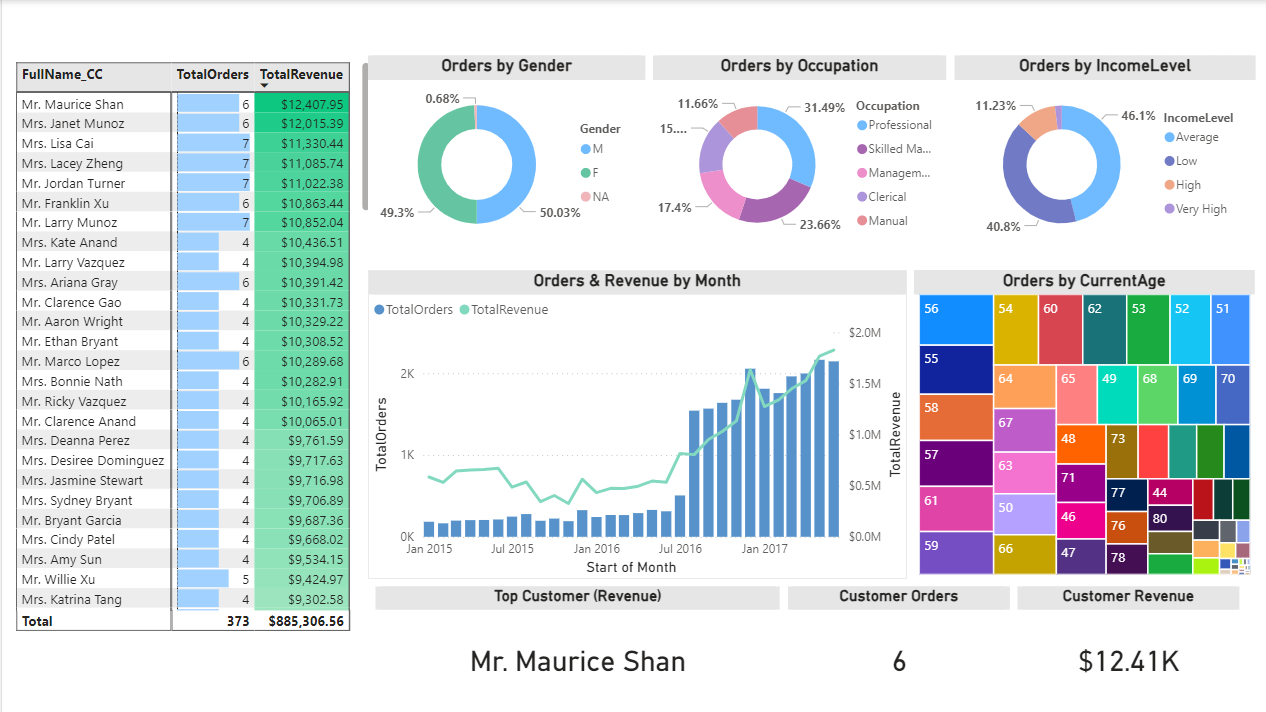

The dashboard page shown, as its layout file describes it:
{"tool":"powerbi","page":{"name":"Customer Detail","canvas":[1280,720],"ordinal":1},"visuals":[{"type":"pivotTable","title":"Top 100 Customers","fields":{"Values":["AW_Sales.TotalOrders","AW_Sales.TotalRevenue"],"Rows":["AW_Customer_Lookup.FullName_CC"]},"box":[9.6,57.1,368,584.5],"z":0},{"type":"donutChart","title":"Orders by Gender","fields":{"Y":["AW_Sales.TotalOrders"],"Category":["AW_Customer_Lookup.Gender"]},"box":[368.9,56.4,280,200],"z":1000},{"type":"donutChart","title":"Orders by Occupation","fields":{"Y":["AW_Sales.TotalOrders"],"Category":["AW_Customer_Lookup.Occupation"]},"box":[656.9,56.4,296,200],"z":2000},{"type":"donutChart","title":"Orders by IncomeLevel","fields":{"Y":["AW_Sales.TotalOrders"],"Category":["AW_Customer_Lookup.IncomeLevel"]},"box":[960.9,56.4,304,200],"z":3000},{"type":"lineClusteredColumnComboChart","title":"Orders & Revenue by Month","fields":{"Y":["AW_Sales.TotalOrders"],"Y2":["AW_Sales.TotalRevenue"],"Category":["AW_Calendar_Lookup.Start of Month"]},"box":[368.9,272.4,544,312],"z":4000},{"type":"treemap","title":"Orders by CurrentAge","fields":{"Values":["AW_Sales.TotalOrders"],"Group":["AW_Customer_Lookup.CurrentAge"]},"box":[920.9,272.4,344,312],"z":6000},{"type":"card","title":"Top Customer (Revenue)","fields":{"Values":["AW_Customer_Lookup.FullName_CC"]},"box":[376.9,592.4,408,128],"z":7000},{"type":"card","title":"Customer Orders","fields":{"Values":["AW_Sales.TotalOrders"]},"box":[792.9,592.4,224,128],"z":8000},{"type":"card","title":"Customer Revenue","fields":{"Values":["AW_Sales.TotalRevenue"]},"box":[1024.9,592.4,224,128],"z":9000}]}

Visuals, with their boxes in screenshot pixels (x1, y1, x2, y2), scaled from the page's 1280x720 canvas onto the 1266x712 screenshot:
"Top 100 Customers" pivotTable: bbox=(9, 56, 373, 634)
"Orders by Gender" donutChart: bbox=(365, 56, 642, 254)
"Orders by Occupation" donutChart: bbox=(650, 56, 942, 254)
"Orders by IncomeLevel" donutChart: bbox=(950, 56, 1251, 254)
"Orders & Revenue by Month" lineClusteredColumnComboChart: bbox=(365, 269, 903, 578)
"Orders by CurrentAge" treemap: bbox=(911, 269, 1251, 578)
"Top Customer (Revenue)" card: bbox=(373, 586, 776, 711)
"Customer Orders" card: bbox=(784, 586, 1006, 711)
"Customer Revenue" card: bbox=(1014, 586, 1235, 711)
